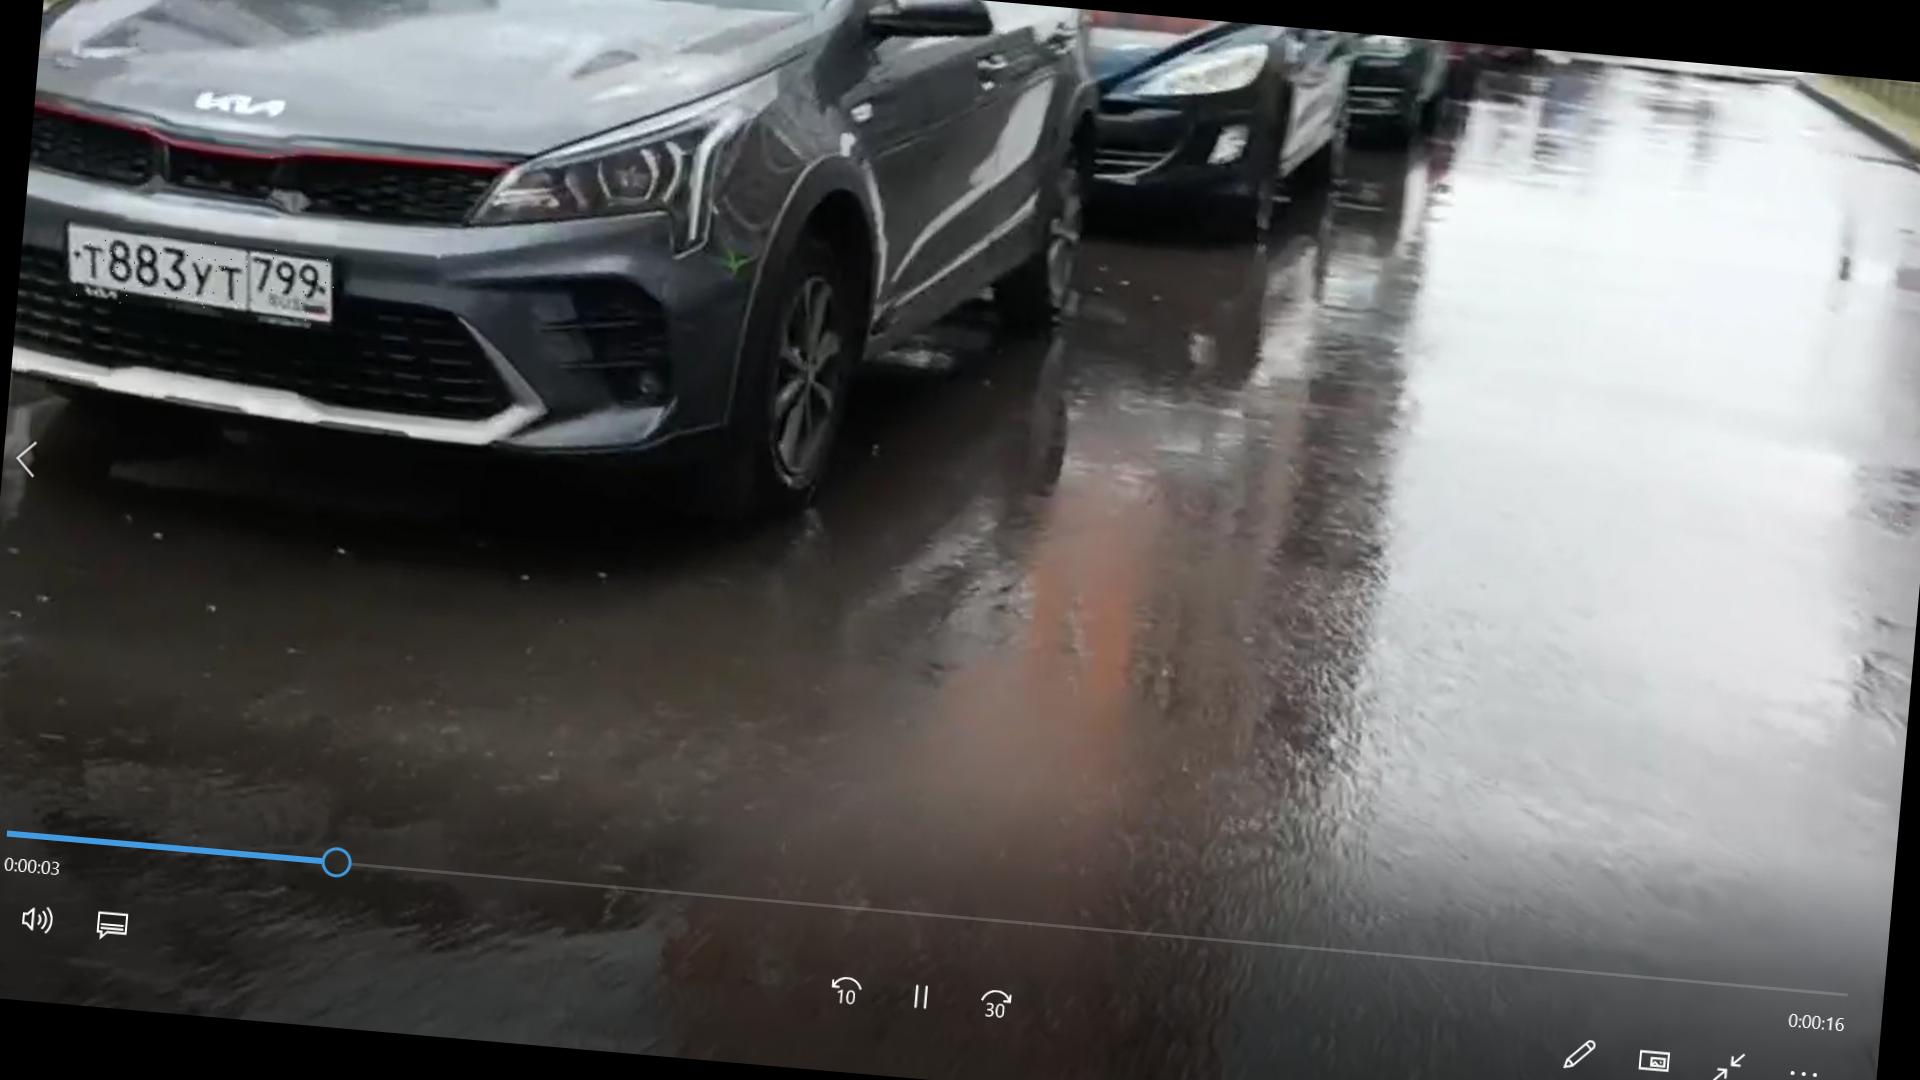plate: (77, 233, 345, 326)
